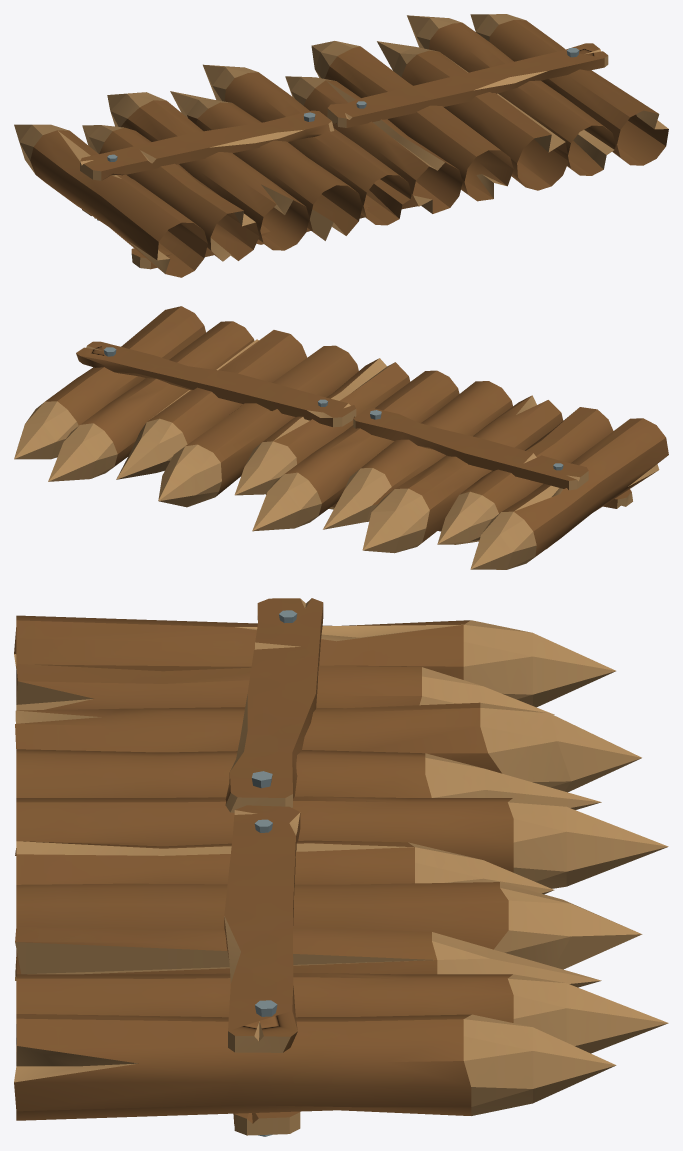
Rendered from spikes.dae.
3 views of the same model, one above another, from view 1: azimuth 30°, elevation 25°; view 2: azimuth 150°, elevation 25°; view 3: azimuth 270°, elevation 25° (orthographic). The views are drawn at different scales.
Visible parts, largest first — view 1: big_wall_1.009; view 2: big_wall_1.009; view 3: big_wall_1.009.
Boxes of the visible parts, x1,y1,x2,y2 form: big_wall_1.009: (14, 14, 668, 277); big_wall_1.009: (14, 306, 668, 569); big_wall_1.009: (14, 598, 668, 1136).
Bounding box in the file's own units: 4.44 × 2.77 × 0.6249.
